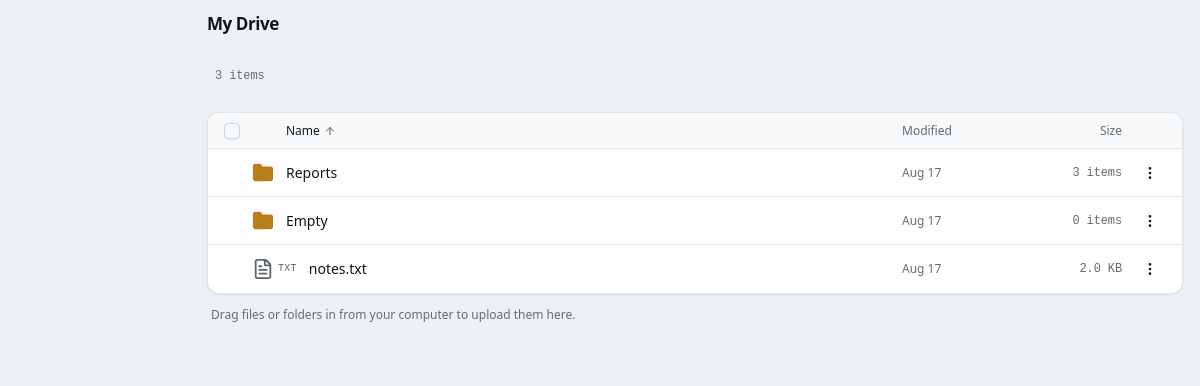
it: sorting from the column headers › puts the column in the address and asks the server for it
expect the link "notes.txt" is shown: met, box left=309, top=259, right=367, bottom=278
Note: Nothing is sorted by size yet, so the header is named plainly.
Click the button "Size".
click(1082, 131)  # box left=1042, top=122, right=1122, bottom=140
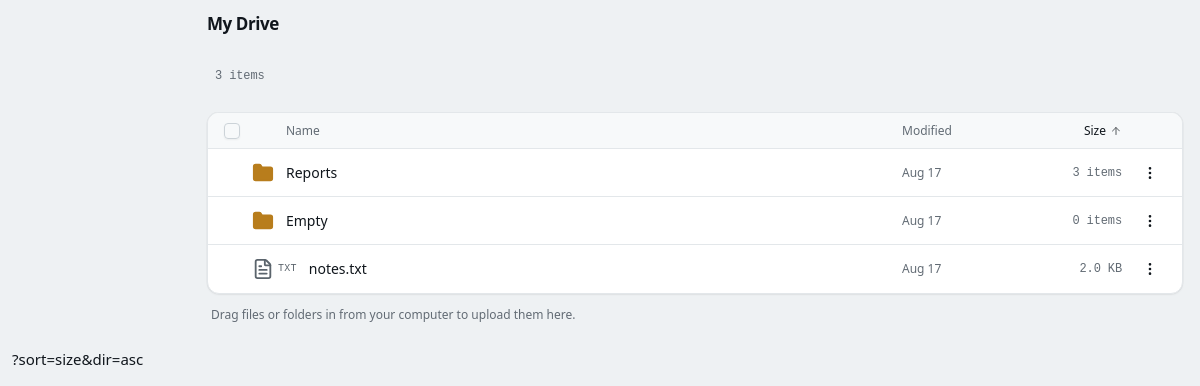
expect the button "Name" is shown: met, box left=286, top=122, right=890, bottom=140
expect the text with test id "where" reads "?sort=size&dir=asc": met, box left=12, top=349, right=143, bottom=369
expect the button with aria-label "Size, ascending" is shown: met
Click the button with aria-label "Size, ascending".
click(1082, 131)  # box left=1042, top=122, right=1122, bottom=140
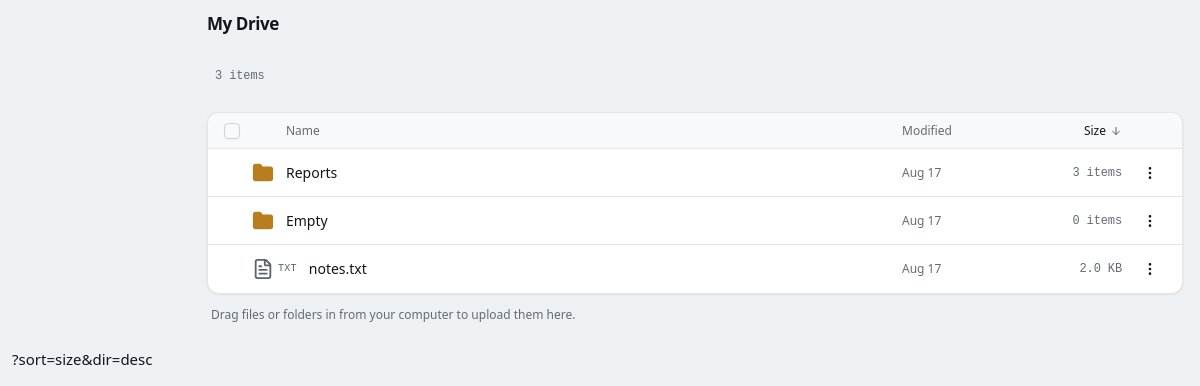
expect the text with test id "where" reads "?sort=size&dir=desc": met, box left=12, top=349, right=152, bottom=369
expect the button with aria-label "Size, descending" is shown: met, box left=1042, top=122, right=1122, bottom=140
